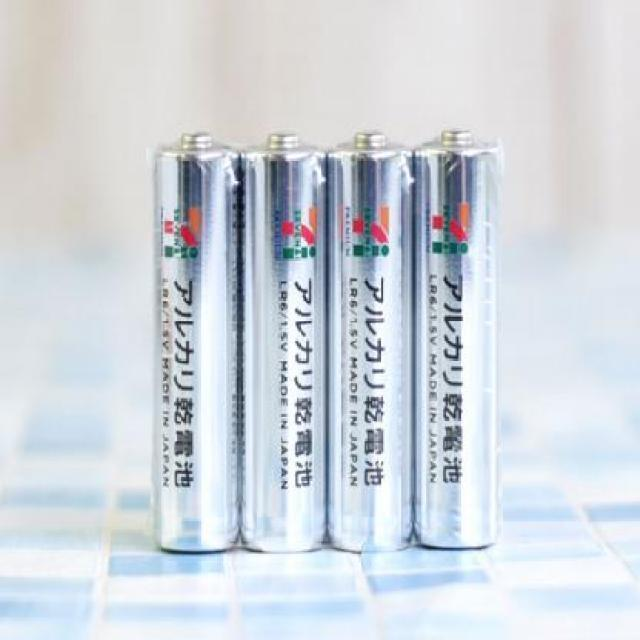AA: (412, 122, 510, 556), (323, 120, 417, 563), (147, 128, 240, 557), (240, 120, 331, 557)
